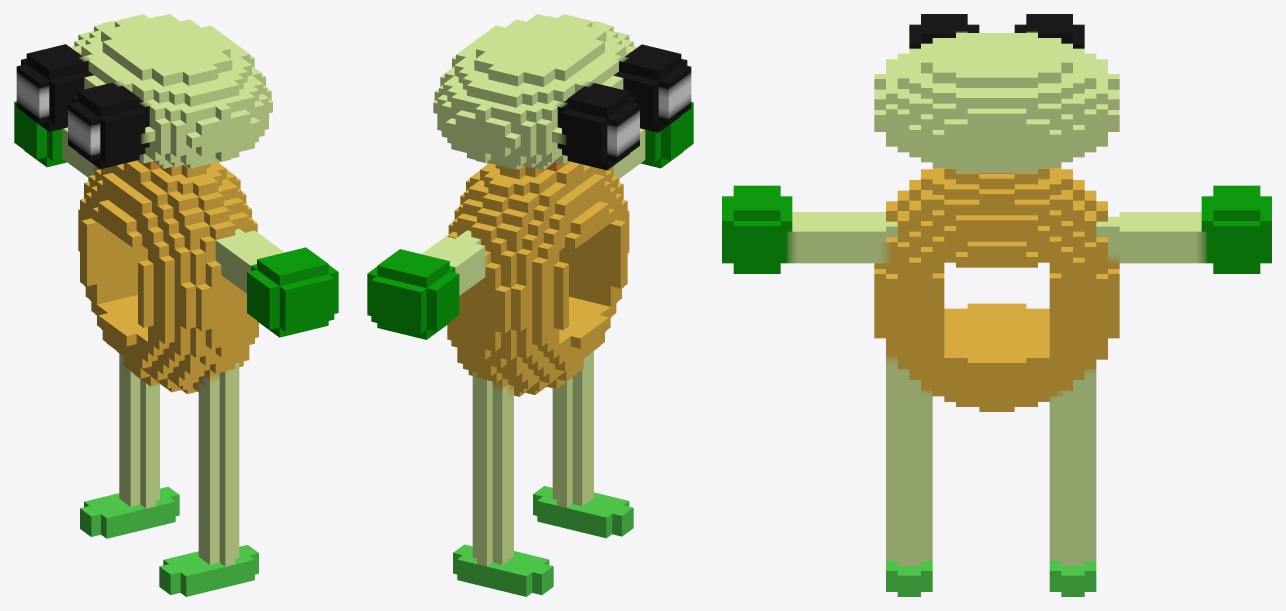
File: CoinMan.fbx
3 views of the same model, side by side, from view 1: azimuth 30°, elevation 25°; view 2: azimuth 150°, elevation 25°; view 3: azimuth 270°, elevation 25° (orthographic). The views are drawn at different scales.
Parts seen in each view (by area): view 1: Matrix; view 2: Matrix; view 3: Matrix.
Part boxes in pixels (bbox=[...]): Matrix: bbox=[14, 14, 338, 596]; Matrix: bbox=[367, 14, 693, 596]; Matrix: bbox=[722, 14, 1271, 596].
Bounding box in the file's own units: 19 × 49 × 47.
